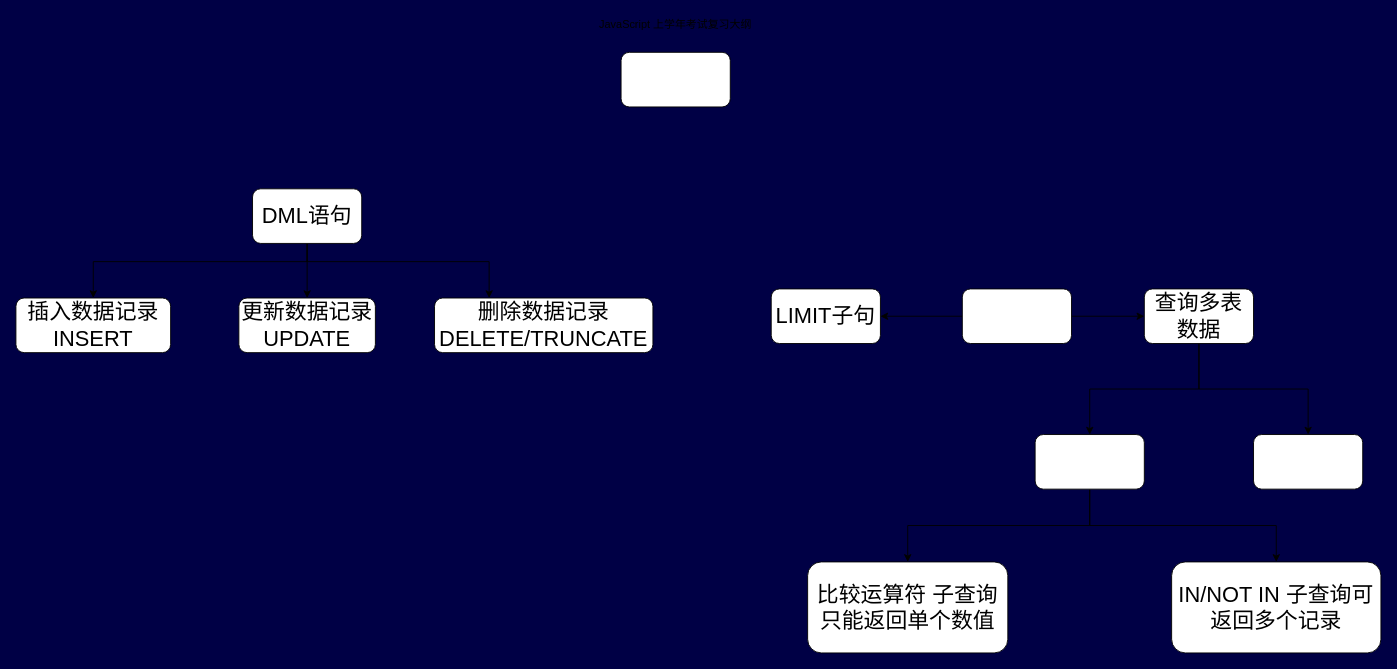
The diagram is 1397 pixels wide and 669 high, and some of its shapes have lost their labels. The shapes that lost their labels are listed below. From the top down, each one's centre as x and y in pixels, then its label:
At [675,79]: "高级查询".
At [1016,316]: "查询语句".
At [1089,461]: "子查询".
At [1308,461]: "表连接".
